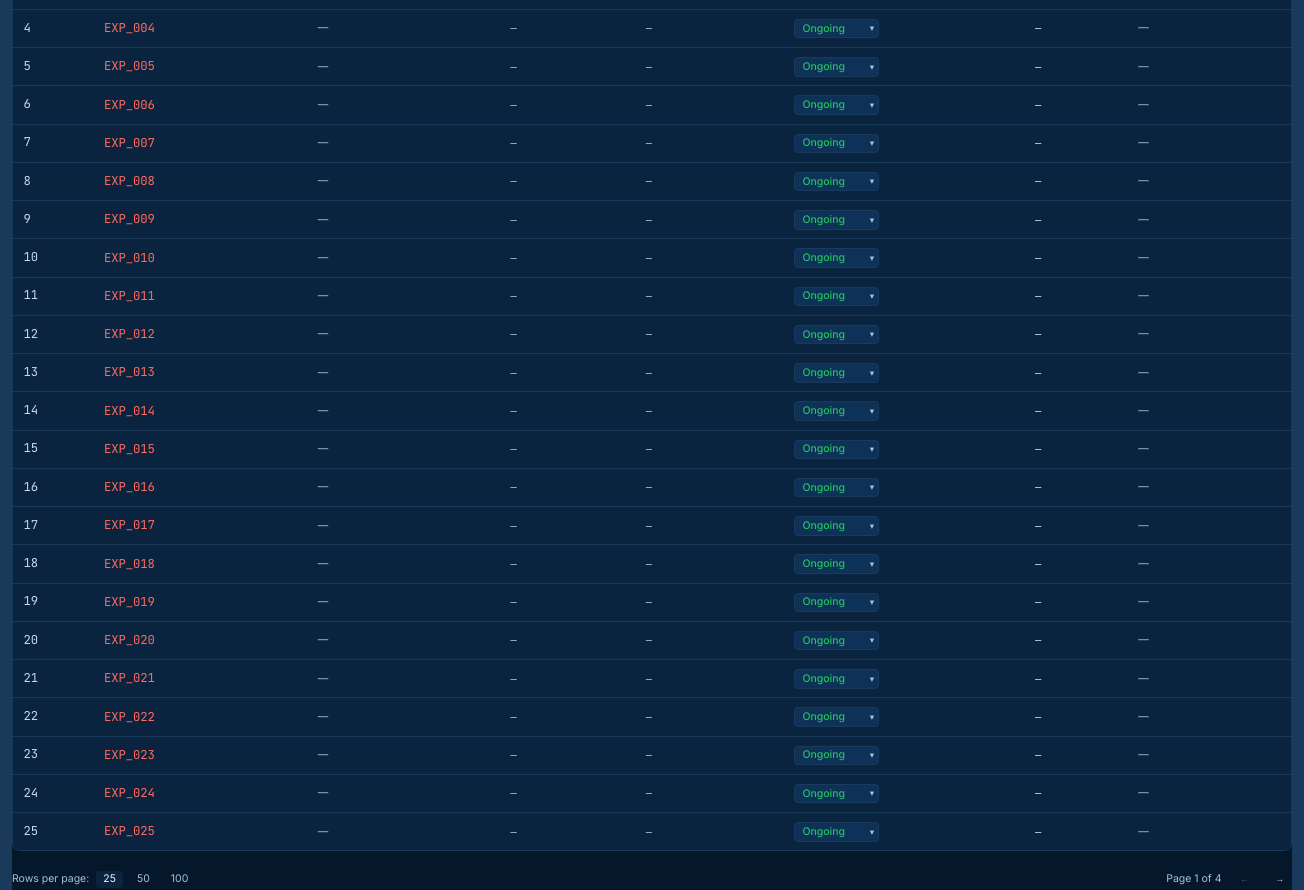
Test: ExperimentListPage — pagination reset on filter › resets to page 1 when page size is changed on page 2
The image size is (1304, 890).
(page scrolled)
Expected: the text "Page 1 of 4" is shown, [1166,872,1222,886]
# Navigate to page 2
Click the button "→" at {"x": 1280, "y": 879}, box [1267,869,1292,889]
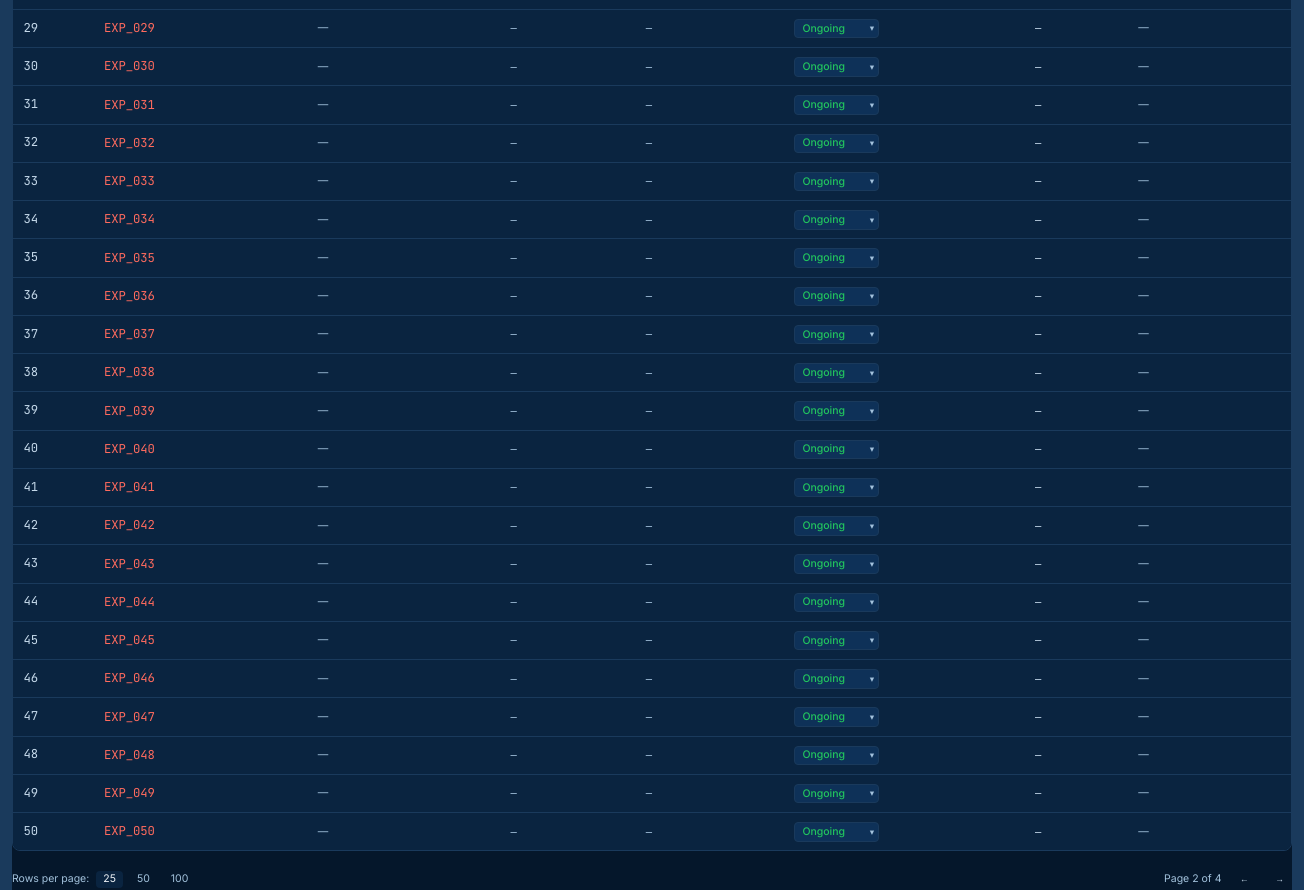
Now the text "Page 2 of 4" is shown, box [1164,872,1222,886]
# Change page size to 50
Click the button "50" at {"x": 143, "y": 879}, box [130,870,157,888]
(page scrolled)
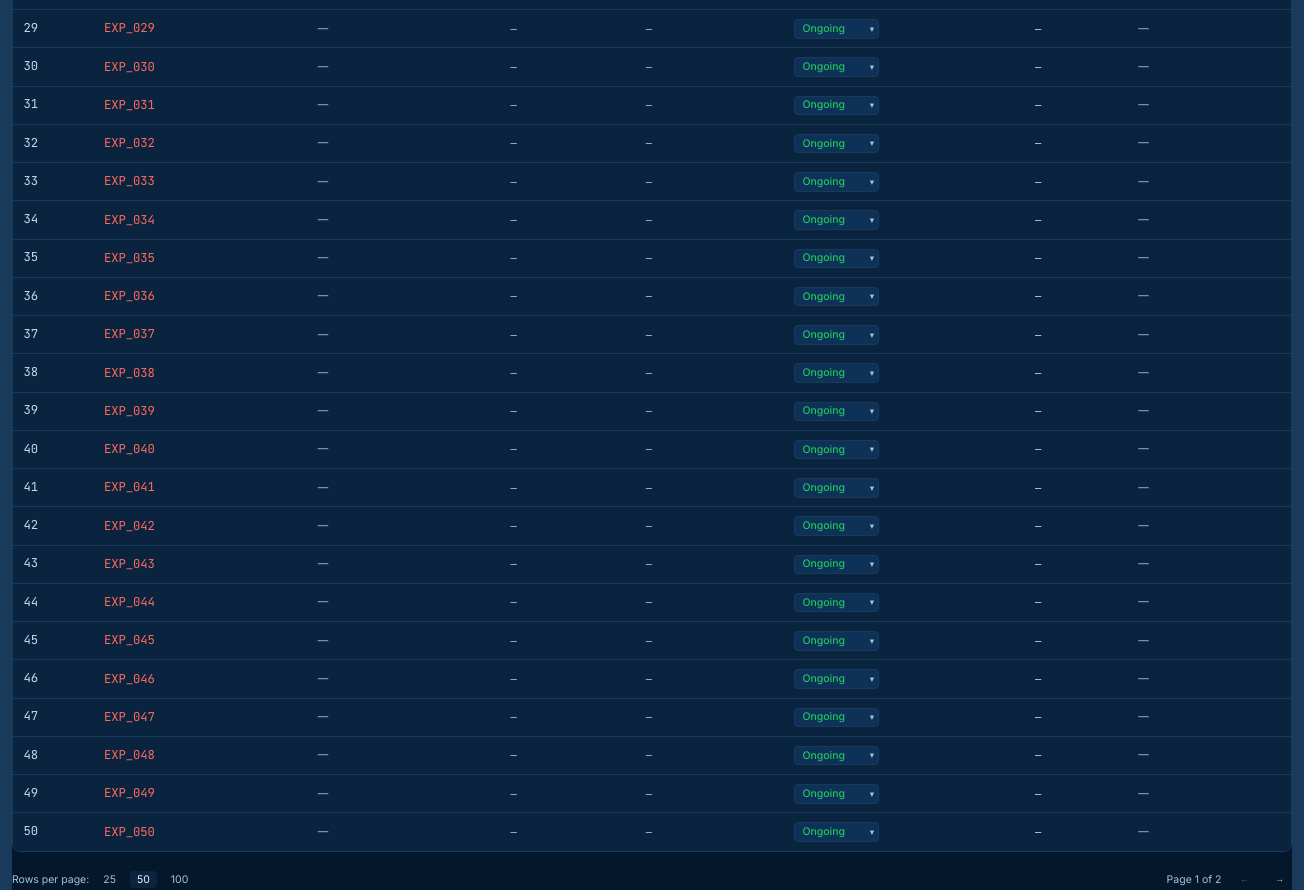
Now the text "Page 1 of 2" is shown, box [1167,872,1222,886]
